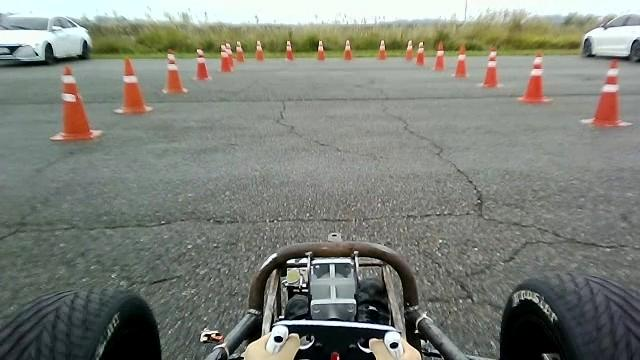red cone: (49, 64, 103, 141), (580, 58, 633, 128), (114, 57, 156, 115), (516, 50, 553, 103), (161, 49, 188, 95), (477, 49, 503, 88), (192, 48, 211, 81), (452, 43, 468, 78), (433, 40, 445, 71), (415, 40, 425, 65), (235, 40, 245, 62), (377, 39, 387, 59), (343, 39, 352, 60), (316, 39, 325, 60), (404, 39, 413, 60), (285, 39, 294, 60), (255, 40, 264, 60)
